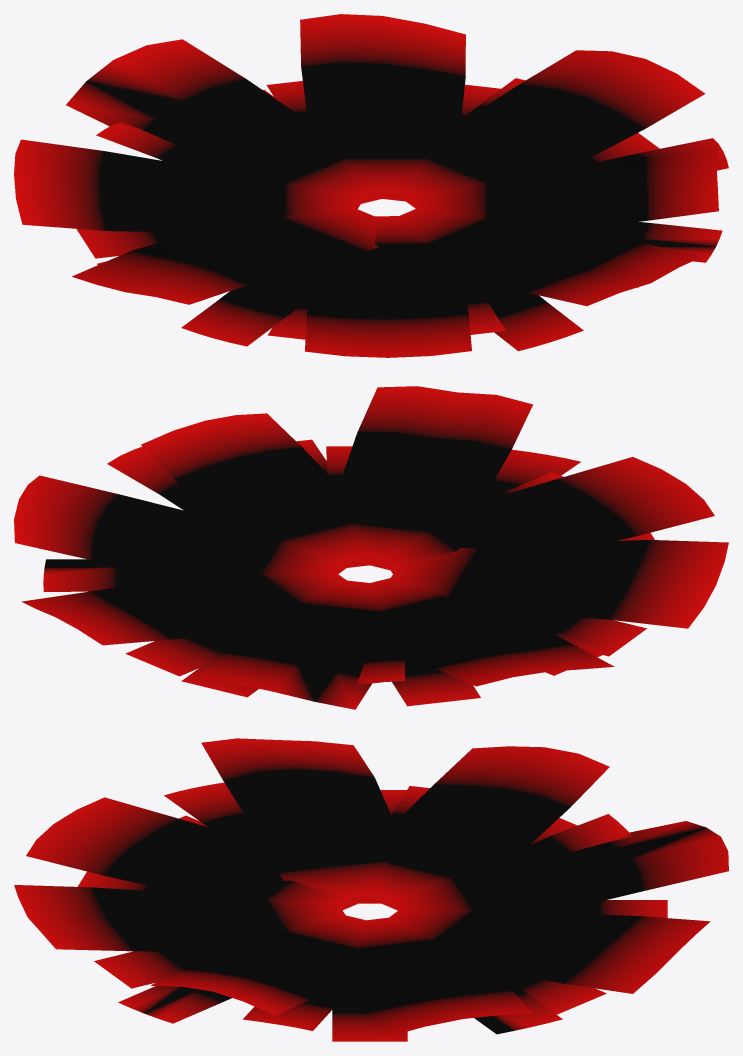
File: Lightning Ring.fbx
3 views of the same model, one above another, from view 1: azimuth 30°, elevation 25°; view 2: azimuth 150°, elevation 25°; view 3: azimuth 270°, elevation 25° (orthographic). The views are drawn at different scales.
Visible parts, largest first — view 1: pPlane25; view 2: pPlane25; view 3: pPlane25.
Boxes of the visible parts, x1,y1,x2,y2 form: pPlane25: (14, 14, 728, 357); pPlane25: (14, 386, 728, 709); pPlane25: (14, 738, 728, 1041).
Bounding box in the file's own units: 8.85 × 0.549 × 8.82.
